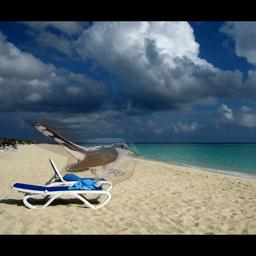Cuckoo: (34, 119, 139, 186)
